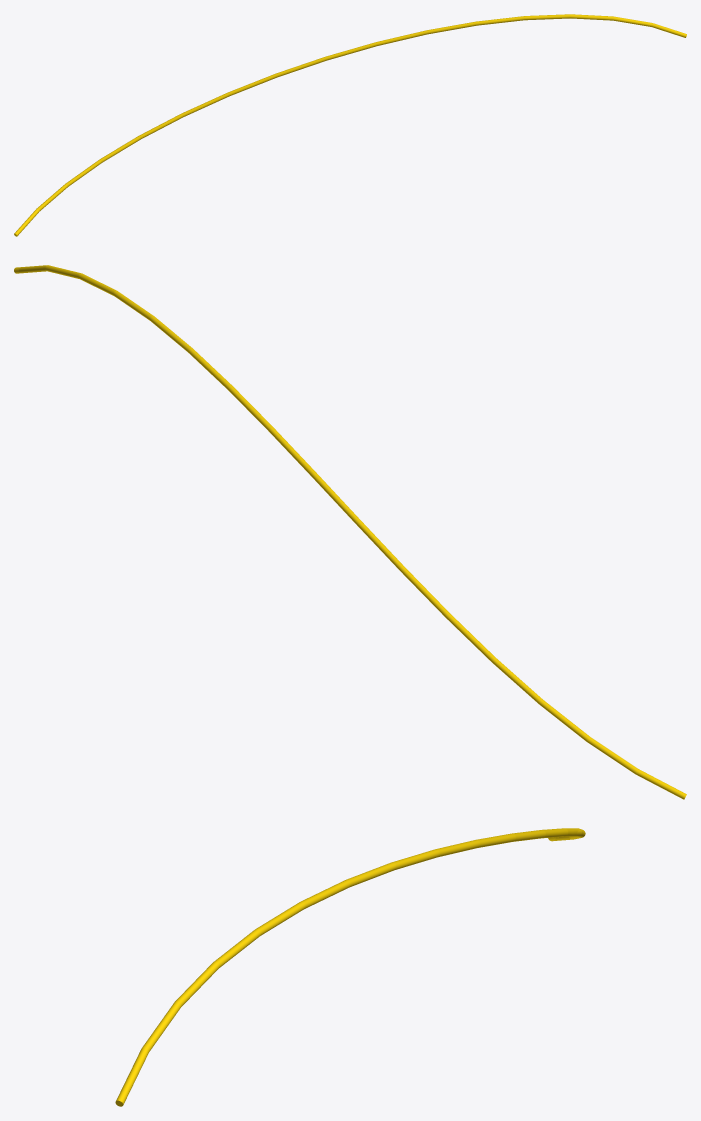
Rendered from Event_420094457_track_19.fbx.
The picture shows the model from 3 angles, top to bottom: view 1: azimuth 30°, elevation 25°; view 2: azimuth 150°, elevation 25°; view 3: azimuth 270°, elevation 25°; orthographic projection. The views are drawn at different scales.
Visible parts, largest first — view 1: Model; view 2: Model; view 3: Model.
Boxes of the visible parts, left/top/right/bottom form: Model: left=14, top=14, right=686, bottom=236; Model: left=14, top=265, right=686, bottom=799; Model: left=115, top=828, right=585, bottom=1106.
Bounding box in the file's own units: 6.15 × 1.76 × 2.22.
